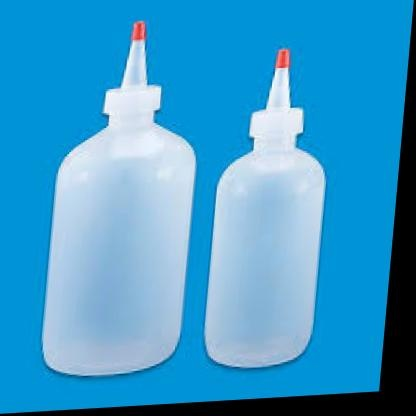trash: (43, 22, 194, 375), (205, 49, 324, 366)
